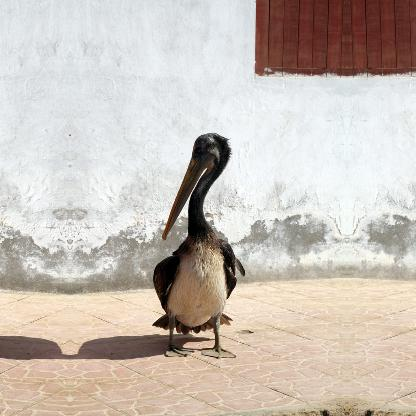Bird: (154, 127, 240, 381)
